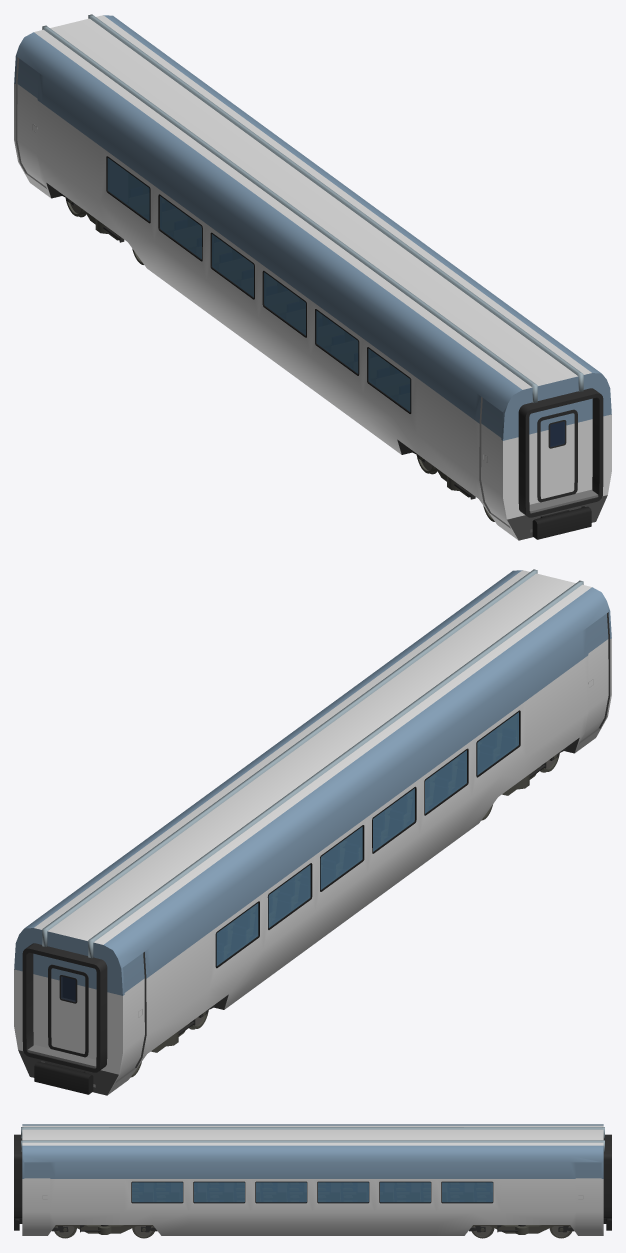
File: sweethome3d-scopia-wagon.glb
3 views of the same model, one above another, from view 1: azimuth 30°, elevation 25°; view 2: azimuth 150°, elevation 25°; view 3: azimuth 270°, elevation 25° (orthographic). The views are drawn at different scales.
Visible parts, largest first — view 1: wagon_Cube.001, Windows_Cube.005, ElectricBox_Cube.008, Inbetween_Cube.011, BackDoor_Cube.003, wheels_Cylinder.002; view 2: wagon_Cube.001, Windows_Cube.005, ElectricBox_Cube.008, Inbetween_Cube.011, BackDoor_Cube.003, wheels_Cylinder.002; view 3: wagon_Cube.001, Windows_Cube.005, ElectricBox_Cube.008, wheels_Cylinder.002, Inbetween_Cube.011.
Part boxes in pixels (bbox=[...]): wagon_Cube.001: bbox=[14, 15, 611, 540]; Windows_Cube.005: bbox=[106, 156, 411, 413]; ElectricBox_Cube.008: bbox=[42, 14, 583, 403]; Inbetween_Cube.011: bbox=[518, 388, 603, 517]; BackDoor_Cube.003: bbox=[537, 409, 577, 502]; wheels_Cylinder.002: bbox=[59, 192, 494, 521]; wagon_Cube.001: bbox=[14, 570, 611, 1095]; Windows_Cube.005: bbox=[215, 710, 520, 968]; ElectricBox_Cube.008: bbox=[42, 569, 583, 958]; Inbetween_Cube.011: bbox=[22, 943, 107, 1072]; BackDoor_Cube.003: bbox=[48, 964, 88, 1057]; wheels_Cylinder.002: bbox=[130, 748, 565, 1077]; wagon_Cube.001: bbox=[14, 1124, 611, 1235]; Windows_Cube.005: bbox=[131, 1181, 493, 1203]; ElectricBox_Cube.008: bbox=[21, 1127, 604, 1151]; wheels_Cylinder.002: bbox=[52, 1225, 574, 1238]; Inbetween_Cube.011: bbox=[14, 1134, 611, 1218].
Bounding box in the file's own units: 292 × 412 × 2315.
